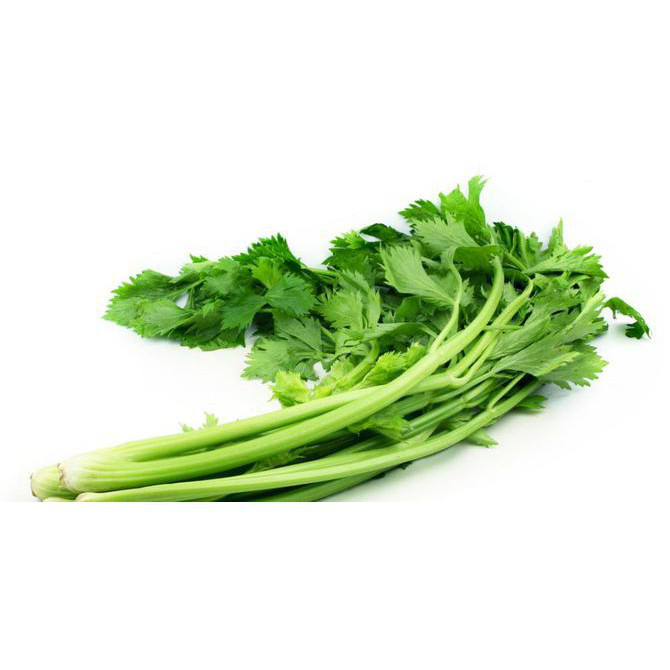Seledri: (42, 194, 670, 564)
